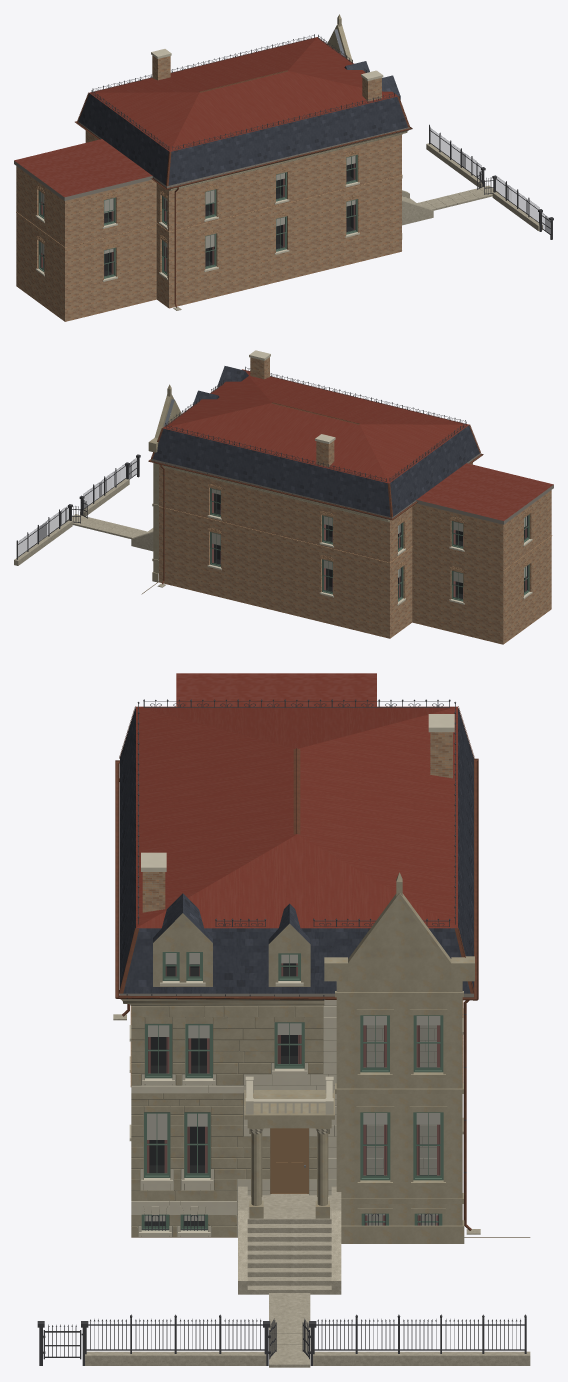
Rendered from house_2017_prairie__as_mapped_1904.glb.
3 views of the same model, one above another, from view 1: azimuth 30°, elevation 25°; view 2: azimuth 150°, elevation 25°; view 3: azimuth 270°, elevation 25° (orthographic). The views are drawn at different scales.
Parts seen in each view (by area): view 1: house_2017_prairie__as_mapped_1904; view 2: house_2017_prairie__as_mapped_1904; view 3: house_2017_prairie__as_mapped_1904.
Boxes of the visible parts, x1,y1,x2,y2 form: house_2017_prairie__as_mapped_1904: (14, 14, 553, 321); house_2017_prairie__as_mapped_1904: (14, 350, 553, 644); house_2017_prairie__as_mapped_1904: (37, 673, 530, 1367).
Size of the model in its own units: 32.5 by 12.81 by 15.24.
Materials: 28 (17 with a texture image).
